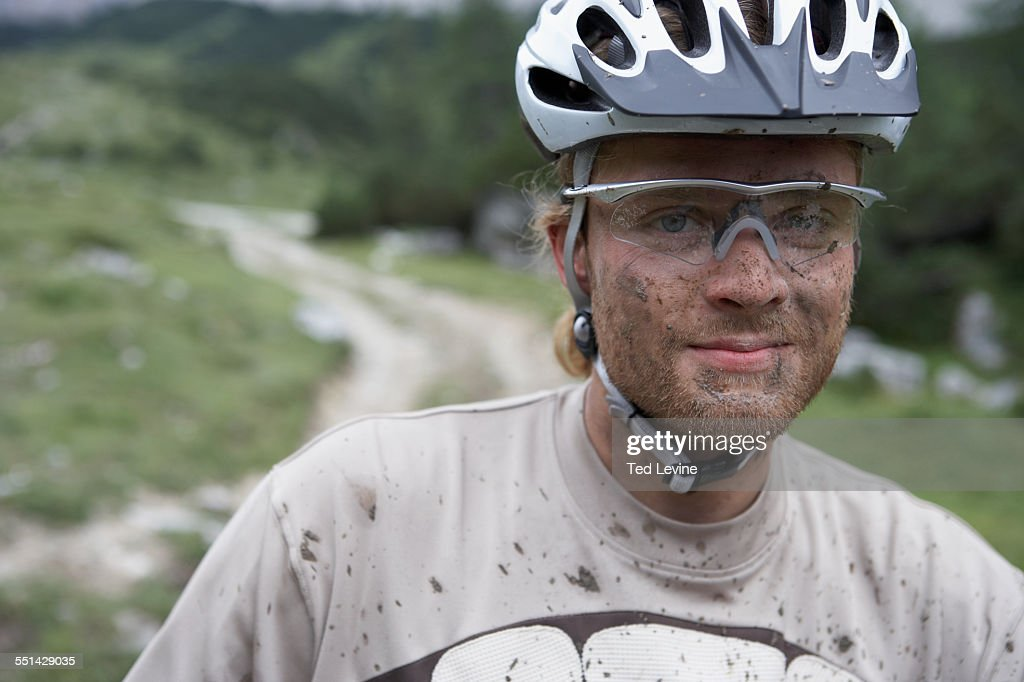helmet: (514, 1, 922, 456)
